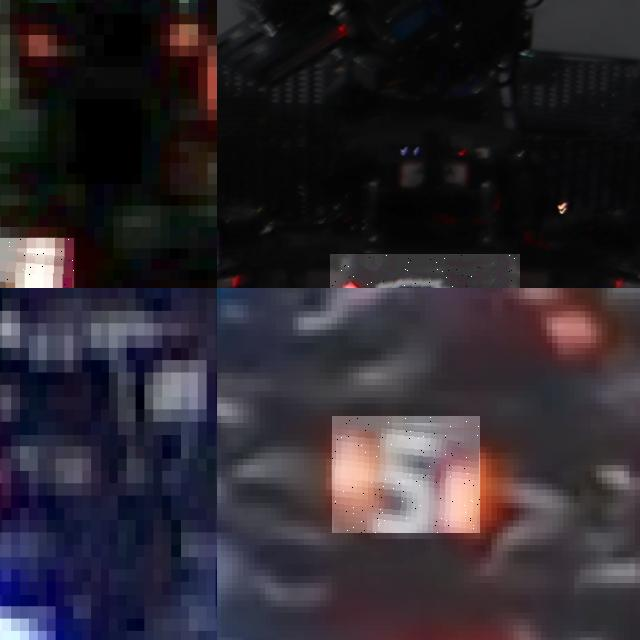R5: (332, 416, 480, 533)
Rs: (330, 254, 520, 288), (0, 237, 75, 288)
